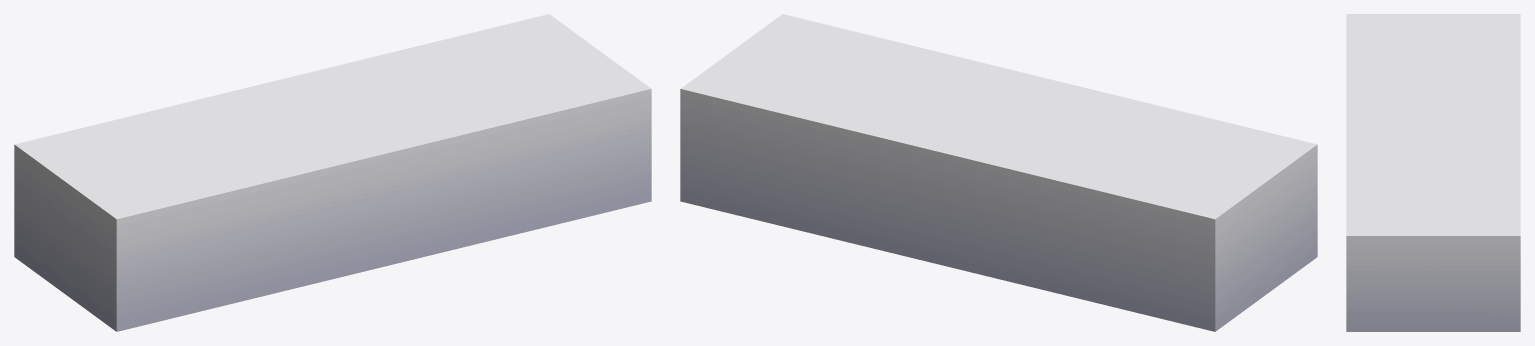
The model's file is brick-kit--none-lq-brick-2x6.glb.
The picture shows the model from 3 angles, left to right: view 1: azimuth 30°, elevation 25°; view 2: azimuth 150°, elevation 25°; view 3: azimuth 270°, elevation 25°; orthographic projection. The views are drawn at different scales.
Visible parts, largest first — view 1: none-lq-brick-2x6; view 2: none-lq-brick-2x6; view 3: none-lq-brick-2x6.
Part boxes in pixels (x1,y1,x2,y2): none-lq-brick-2x6: (14, 14, 651, 331); none-lq-brick-2x6: (680, 14, 1317, 331); none-lq-brick-2x6: (1346, 14, 1520, 331).
Bounding box in the file's own units: 0.477 × 0.096 × 0.158.
1 material, 1 textured.
